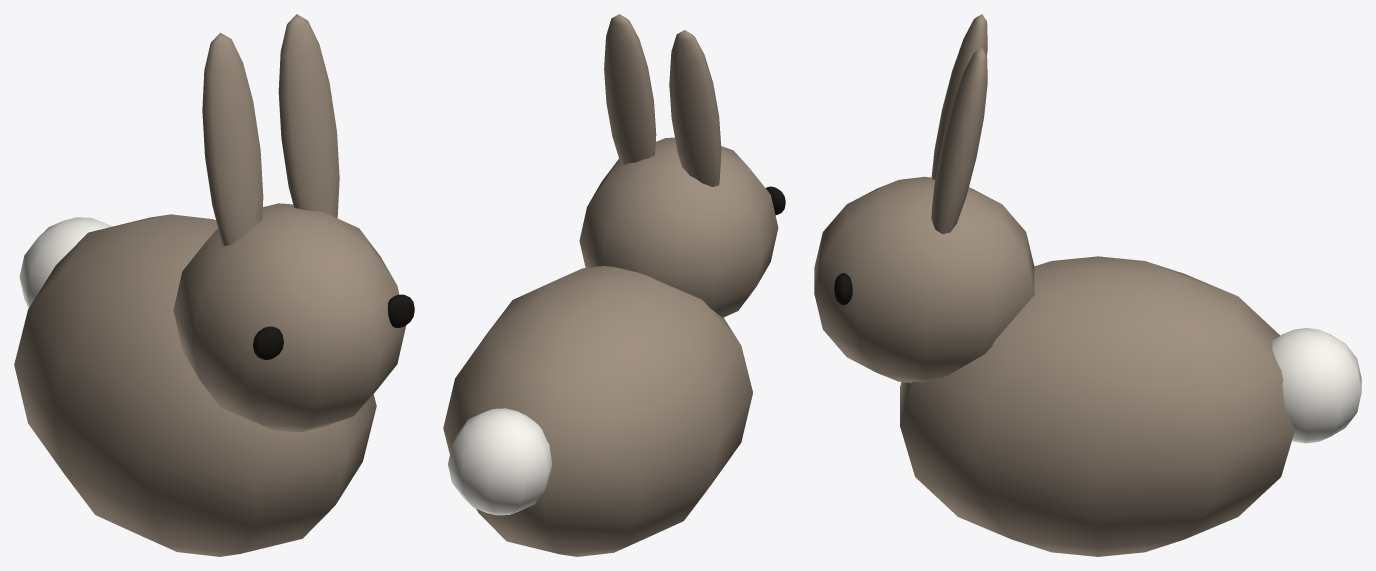
File: conejo.glb
3 views of the same model, side by side, from view 1: azimuth 30°, elevation 25°; view 2: azimuth 150°, elevation 25°; view 3: azimuth 270°, elevation 25° (orthographic). The views are drawn at different scales.
Visible parts, largest first — view 1: conejo; view 2: conejo; view 3: conejo.
Boxes of the visible parts, x1=… form: conejo: x1=14, y1=14, x2=414, y2=556; conejo: x1=443, y1=14, x2=785, y2=556; conejo: x1=814, y1=14, x2=1361, y2=556.
Bounding box in the file's own units: 0.26 × 0.488 × 0.4727.
